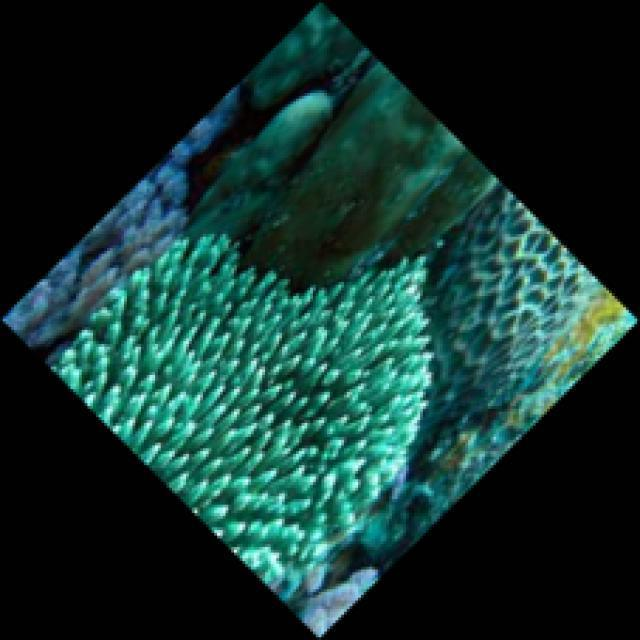Healthy: (50, 234, 435, 589), (178, 1, 504, 301), (1, 86, 249, 357), (421, 181, 598, 437)
